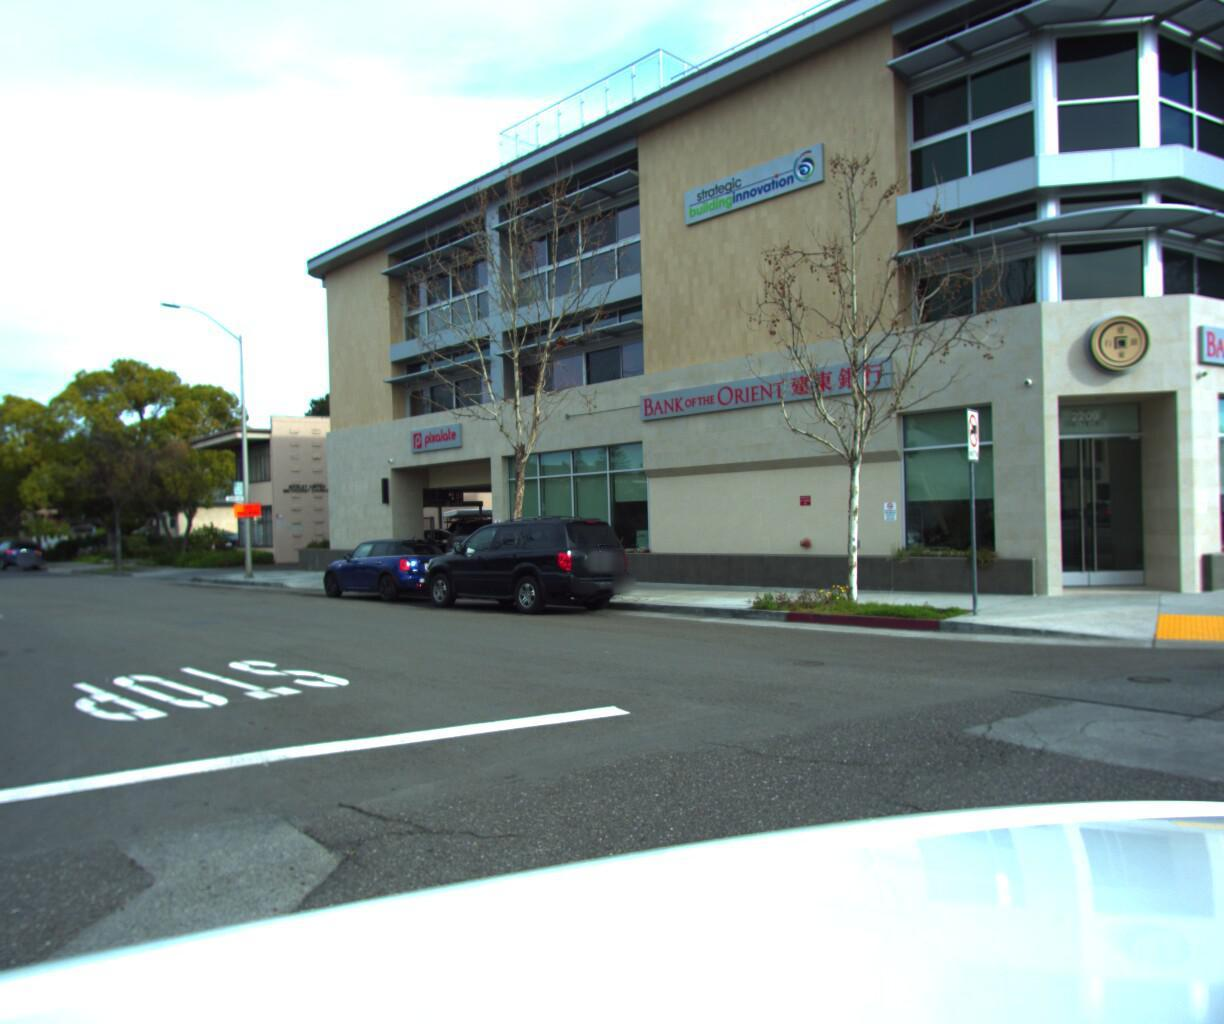car: (413, 506, 653, 619), (315, 530, 472, 603), (0, 538, 1, 565)
truck: (1112, 466, 1224, 555)
